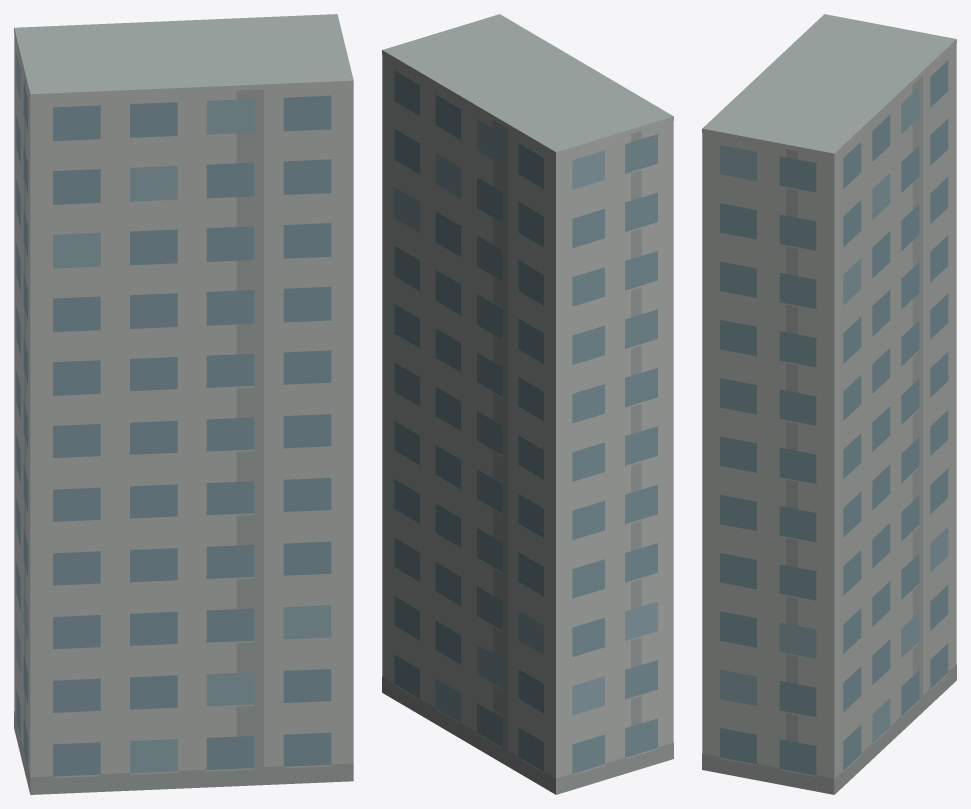
File: survey-upis-32720002.glb
3 renders of one model, left to right at view 1: azimuth 30°, elevation 25°; view 2: azimuth 150°, elevation 25°; view 3: azimuth 270°, elevation 25°, orthographic. The views are drawn at different scales.
Parts seen in each view (by area): view 1: survey-upis-32720002.tmp; view 2: survey-upis-32720002.tmp; view 3: survey-upis-32720002.tmp.
Boxes of the visible parts, x1,y1,x2,y2 form: survey-upis-32720002.tmp: [14, 14, 353, 794]; survey-upis-32720002.tmp: [382, 14, 673, 794]; survey-upis-32720002.tmp: [702, 14, 956, 794].
Size of the model in its own units: 15.67 by 33.55 by 12.08.
